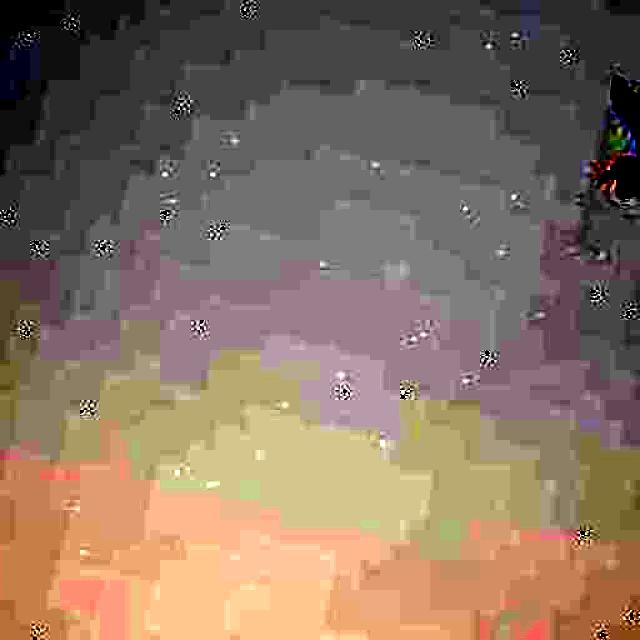airplane: (572, 76, 640, 274)
